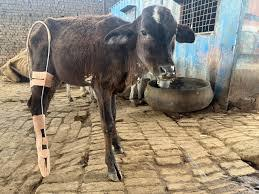fracture: (11, 65, 81, 187)
